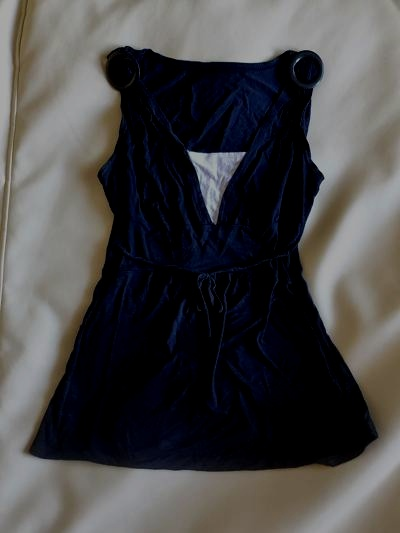Dress: (38, 52, 372, 507)
